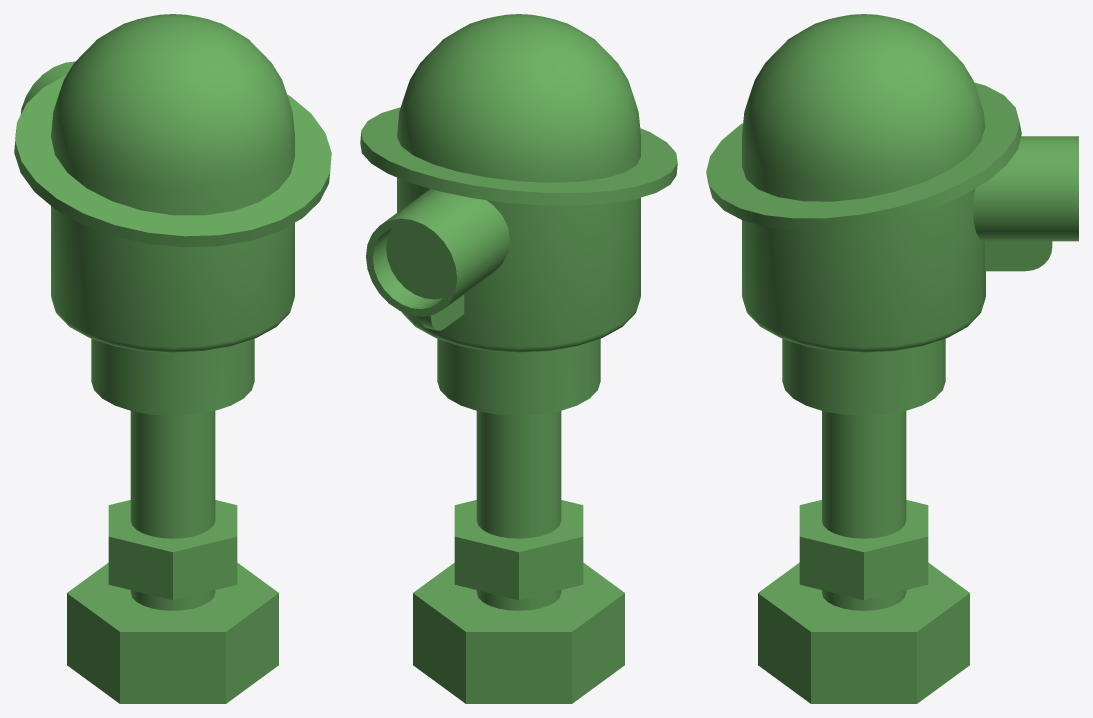
The model's file is PT-100 Sensor.fbx.
The picture shows the model from 3 angles, left to right: view 1: azimuth 30°, elevation 25°; view 2: azimuth 150°, elevation 25°; view 3: azimuth 270°, elevation 25°; orthographic projection.
Parts seen in each view (by area): view 1: PT-100-Sensor; view 2: PT-100-Sensor; view 3: PT-100-Sensor.
Boxes of the visible parts, x1,y1,x2,y2 form: PT-100-Sensor: [14, 14, 331, 703]; PT-100-Sensor: [360, 14, 677, 703]; PT-100-Sensor: [706, 14, 1078, 703].
Bounding box in the file's own units: 12 × 26.56 × 14.05.
